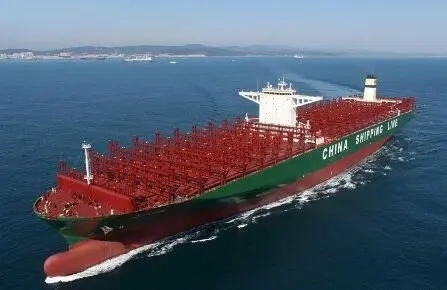Cargoship: (33, 57, 418, 278)
